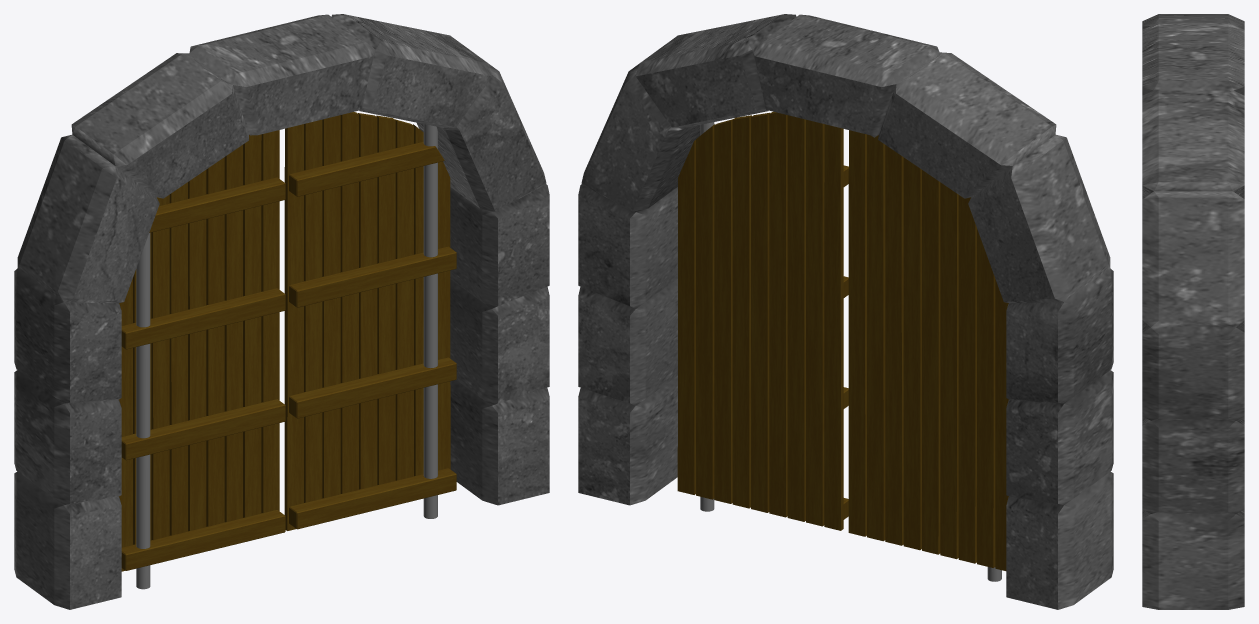
File: doorandframe.fbx
The picture shows the model from 3 angles, left to right: view 1: azimuth 30°, elevation 25°; view 2: azimuth 150°, elevation 25°; view 3: azimuth 270°, elevation 25°; orthographic projection. The views are drawn at different scales.
Visible parts, largest first — view 1: Arch, pasted__pasted__pasted__pasted__pCylinder2, pasted__pasted__pasted__pCylinder2; view 2: Arch, pasted__pasted__pasted__pasted__pCylinder2, pasted__pasted__pasted__pCylinder2; view 3: Arch.
Part boxes in pixels (x1,y1,x2,y2): Arch: [14, 14, 549, 609]; pasted__pasted__pasted__pasted__pCylinder2: [284, 112, 456, 530]; pasted__pasted__pasted__pCylinder2: [119, 130, 285, 589]; Arch: [578, 14, 1113, 609]; pasted__pasted__pasted__pasted__pCylinder2: [677, 111, 848, 530]; pasted__pasted__pasted__pCylinder2: [848, 130, 1008, 581]; Arch: [1142, 14, 1244, 609].
Size of the model in its own units: 13.97 by 13.62 by 2.72.
